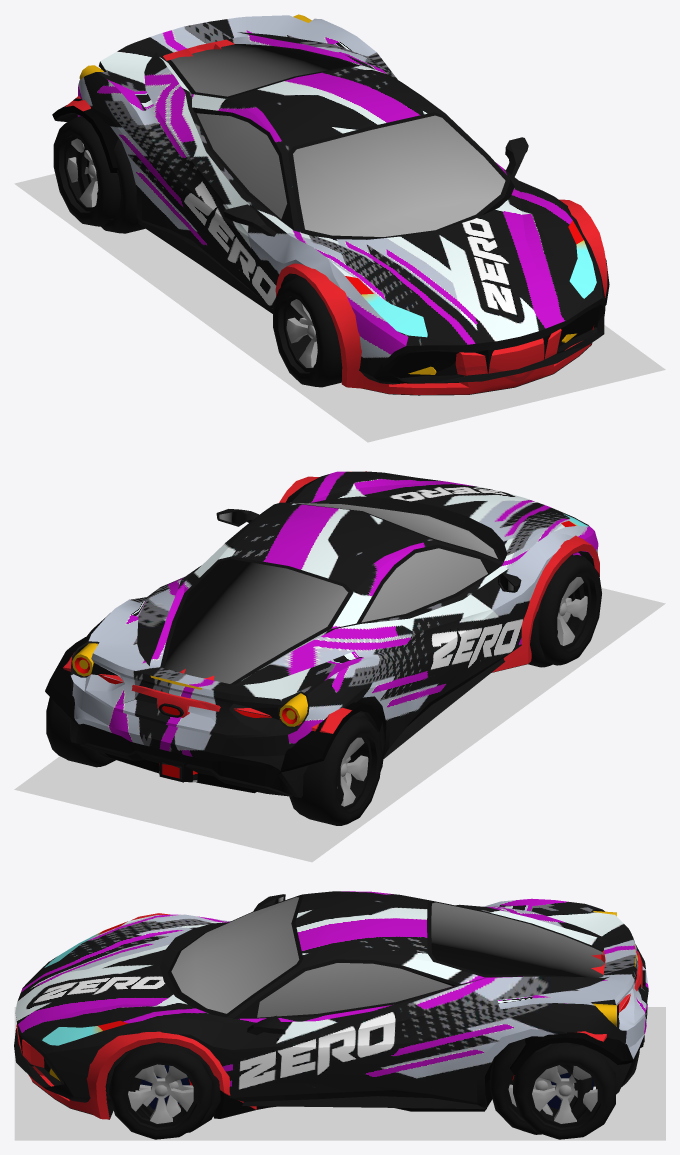
File: Car_ads_2407.fbx
The picture shows the model from 3 angles, top to bottom: view 1: azimuth 30°, elevation 25°; view 2: azimuth 150°, elevation 25°; view 3: azimuth 270°, elevation 25°; orthographic projection. The views are drawn at different scales.
Visible parts, largest first — view 1: Car22_LOD0, Car18_LOD0; view 2: Car22_LOD0, Car18_LOD0; view 3: Car22_LOD0, Car18_LOD0.
Part boxes in pixels (x1,y1,x2,y2): Car22_LOD0: [14, 14, 665, 442]; Car18_LOD0: [52, 39, 609, 395]; Car22_LOD0: [14, 471, 665, 862]; Car18_LOD0: [45, 476, 601, 825]; Car22_LOD0: [14, 891, 665, 1140]; Car18_LOD0: [16, 913, 645, 1139].
Size of the model in its own units: 1.69 by 0.937 by 3.42.
